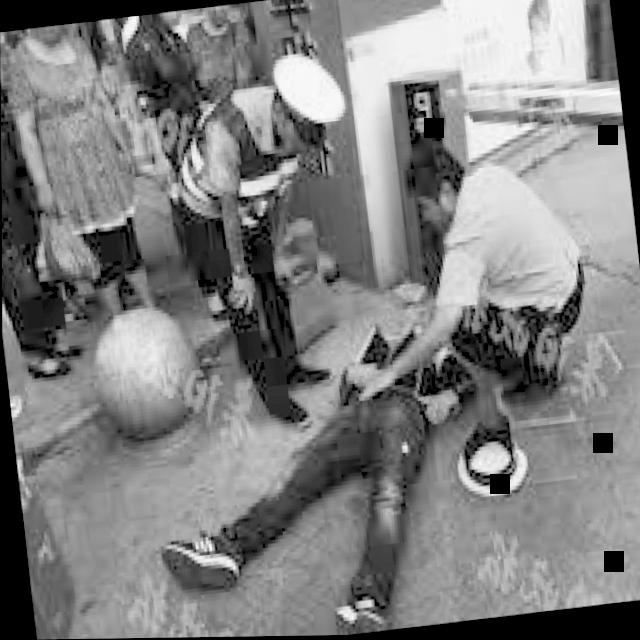Fall-Detected: (122, 265, 516, 639)
